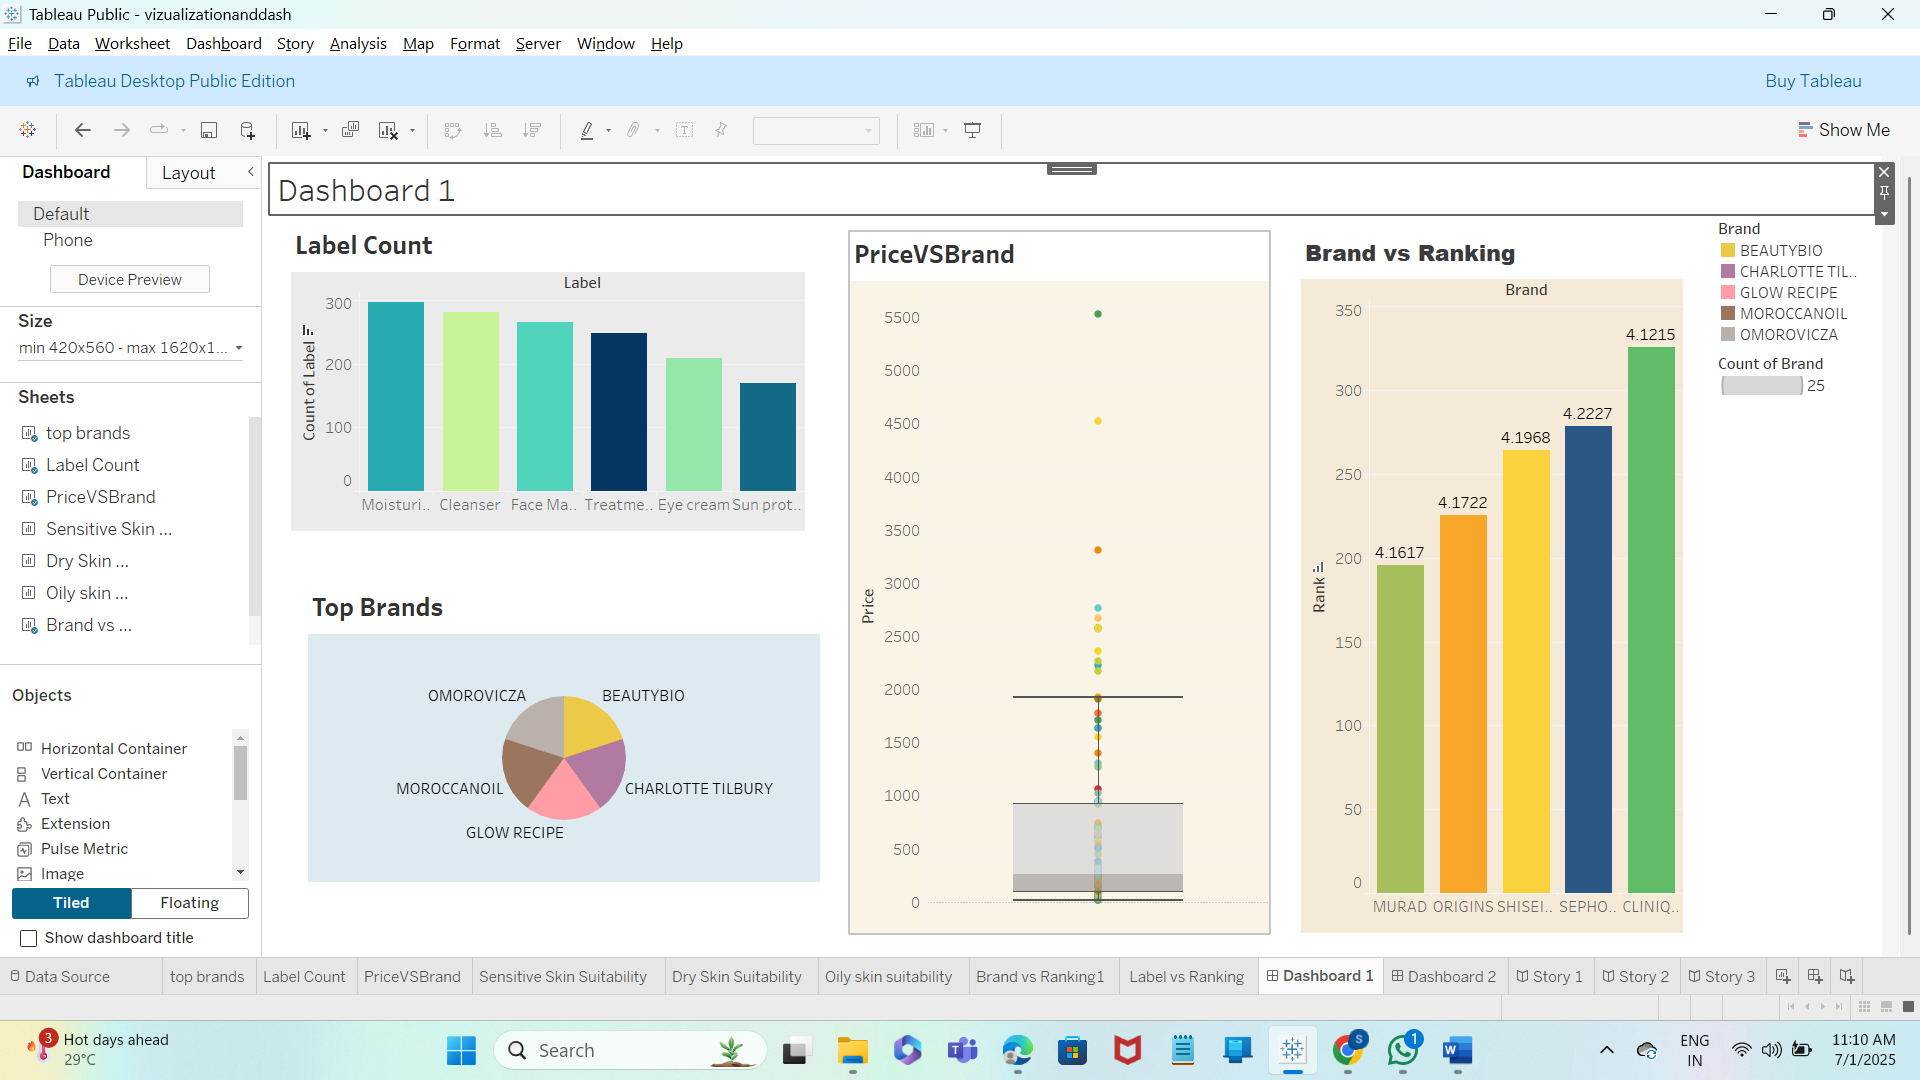

This screenshot's page, from the dashboard's own definition file:
{"tool":"tableau","page":{"name":"Dashboard 1","canvas":[1000,1000],"units":"permille","ordinal":0},"visuals":[{"type":"title","box":[4.9,10,990.1,62.4]},{"type":"legend","title":"top brands","param":"[federated.0zpmquj011b9dw1dsgxjs1doaw15].[none:Brand:nk]","box":[896.3,72.4,98.8,168.5]},{"type":"worksheet","title":"Label Count","mark":"Automatic","rows":["Label"],"cols":["Label"],"box":[17.9,83.7,317.3,384.5]},{"type":"worksheet","title":"PriceVSBrand","mark":"Circle","rows":["Price"],"box":[363,94.9,258.6,875.2]},{"type":"worksheet","title":"Brand vs Ranking1","mark":"Automatic","rows":["Rank"],"cols":["Brand"],"box":[641.4,96.1,235.8,873.9]},{"type":"legend","title":"top brands","param":"[federated.0zpmquj011b9dw1dsgxjs1doaw15].[cnt:Brand:qk]","box":[896.3,241,98.8,63.7]},{"type":"worksheet","title":"top brands","mark":"Pie","box":[28.4,535.6,316.1,370.8]}]}

Visuals, with their boxes on the dashboard's canvas, which has no fixed pixel size, in thousandths of its width and height (x1, y1, x2, y2). These are canvas units, not pixel positions in the 1920x1080 screenshot, which may show the page scaled, cropped or inside an application window:
title: [5,10,995,72]
"top brands" legend: [896,72,995,241]
"Label Count" worksheet: [18,84,335,468]
"PriceVSBrand" worksheet (Circle marks): [363,95,622,970]
"Brand vs Ranking1" worksheet: [641,96,877,970]
"top brands" legend: [896,241,995,305]
"top brands" worksheet (Pie marks): [28,536,344,906]
